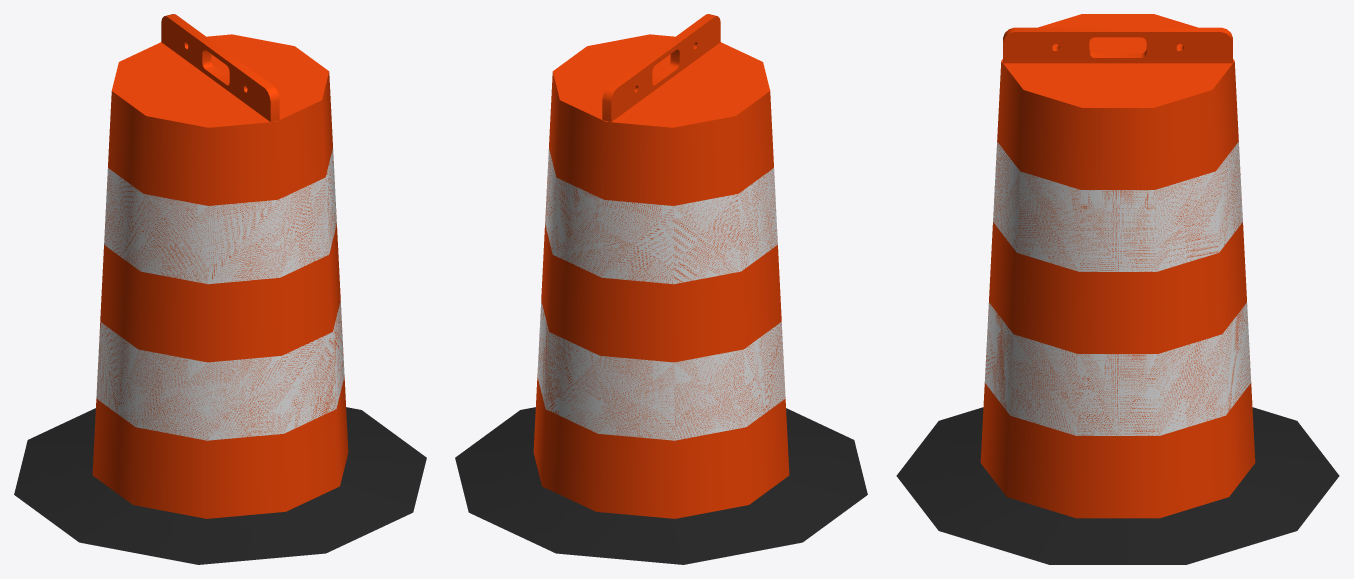
The model's file is ConoArancione.fbx.
The picture shows the model from 3 angles, left to right: view 1: azimuth 30°, elevation 25°; view 2: azimuth 150°, elevation 25°; view 3: azimuth 270°, elevation 25°; orthographic projection. The views are drawn at different scales.
Visible parts, largest first — view 1: Barrel_Half1, Barrel_Half2; view 2: Barrel_Half2, Barrel_Half1; view 3: Barrel_Half2, Barrel_Half1.
Part boxes in pixels (x1,y1,x2,y2): Barrel_Half1: [47, 50, 426, 564]; Barrel_Half2: [14, 14, 393, 518]; Barrel_Half2: [455, 50, 834, 564]; Barrel_Half1: [488, 14, 867, 518]; Barrel_Half2: [1118, 14, 1339, 564]; Barrel_Half1: [896, 14, 1117, 564].
Bounding box in the file's own units: 0.9354 × 1.09 × 0.9835.
